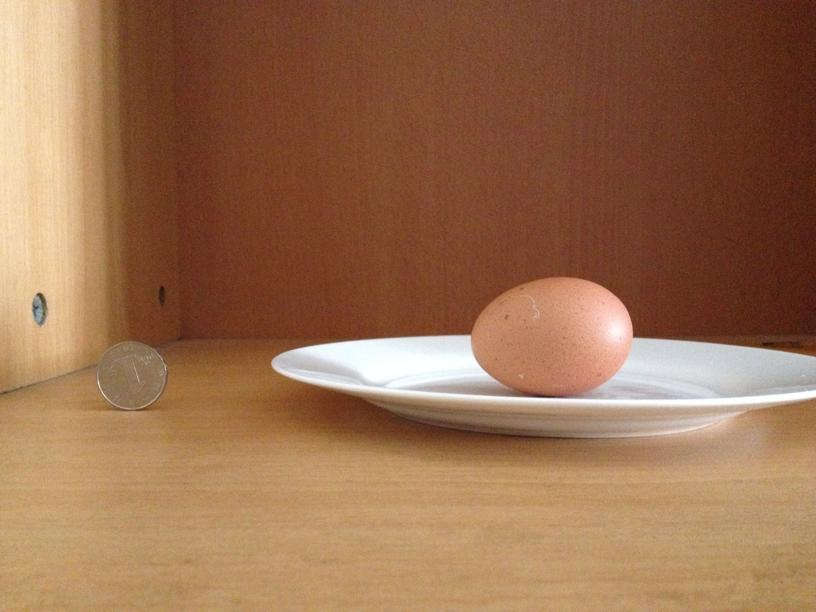coin: (92, 341, 167, 412)
egg: (466, 275, 634, 396)
